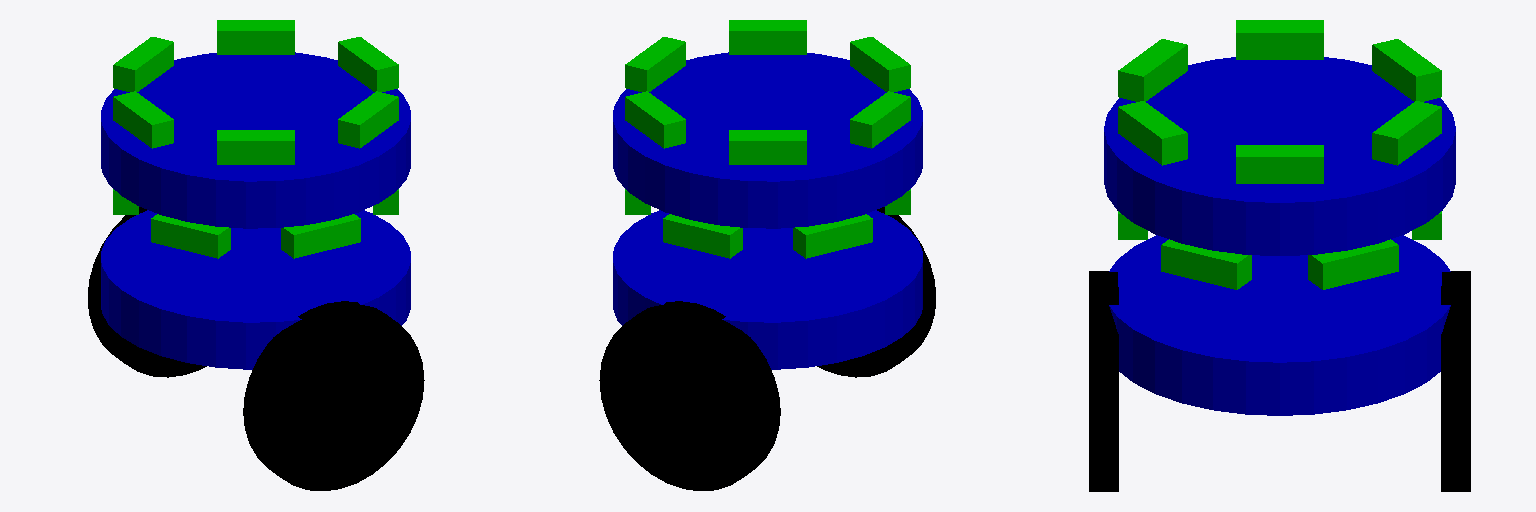
The robot description file, URDF, robot "robot":
<?xml version="1.0" ?>
  <robot name="robot">

    <link name="robot">
    </link>
     
    <joint name="robot_to_base" type="fixed">
		  <parent link="robot"/>
		  <child link="base"/>
		  <origin rpy="0 0 0" xyz="0.00 0 0.05"/>
		  <limit effort="100" velocity="100"/>
		  <joint_properties damping="0.0" friction="10"/>
	  </joint>

	  <link name="base">
		  <visual>
			  <geometry>
				  <cylinder radius="0.06" length="0.02"/>
			  </geometry>
			  <material name="blue">
				  <color rgba="0 0 .8 1"/>
			  </material>
		  </visual>
		  <collision>
			  <geometry>
				  <cylinder radius="0.06" length="0.02"/>
			  </geometry>
		  </collision>
		  <inertial>
			  <origin rpy="0 0 0" xyz="0.000000 0.000000 0.000000"/>
			  <mass value="10"/>
			  <inertia ixx="0.0104" ixy="0" ixz="0" iyy="0.05638" iyz="0" izz="0.0500"/>
		  </inertial>
	  </link>

	  <link name="front_right_wheel">
		  <visual>
			  <geometry>
				  <cylinder length="0.01" radius="0.0375"/>
			  </geometry>
			  <origin rpy="0 1.57075 0" xyz="0 0 0"/>
			  <material name="black">
				  <color rgba="0 0 0 1"/>
			  </material>
		  </visual>	
		  <inertial>
			  <origin rpy="0 0 0" xyz="0.000000 0.000000 0.000000"/>
			  <mass value="0.05"/>
			  <inertia ixx="0.0000329" ixy="0" ixz="0" iyy="0.0000329" iyz="0" izz="0.0000625"/>
		  </inertial>
		  <surface>
          <friction>
            <ode>
              <mu>0.6</mu>
              <mu2>0.6</mu2>
            </ode>
          </friction>
        </surface>
		  <collision>
			  <geometry>
				  <cylinder length="0.02" radius="0.05"/>
			  </geometry>
			  <origin rpy="0 1.57075 0" xyz="0 0 0"/>
		  </collision>
	  </link>


	  <joint name="front_base_to_right_wheel" type="fixed">
		  <parent link="base"/>
		  <child link="front_right_wheel"/>
		  <origin rpy="0 0 1.57" xyz="0 0.06 -0.025"/>
		  <limit effort="100" velocity="100"/>
		  <joint_properties damping="0.0" friction="10"/>
	  </joint>

	  <link name="front_left_wheel">
		  <visual>
			  <geometry>
				  <cylinder length="0.01" radius="0.0375"/>
			  </geometry>
			  <origin rpy="0 1.57075 0" xyz="0 0 0"/>
			  <material name="black">
				  <color rgba="0 0 0 1"/>
			  </material>
		  </visual>	
		  <inertial>
			  <origin rpy="0 0 0" xyz="0.000000 0.000000 0.000000"/>
			  <mass value="0.05"/>
			  <inertia ixx="0.0000329" ixy="0" ixz="0" iyy="0.0000329" iyz="0" izz="0.0000625"/>
		  </inertial>
		  <surface>
          <friction>
            <ode>
              <mu>0.6</mu>
              <mu2>0.6</mu2>
            </ode>
          </friction>
        </surface>
		  <collision>
			  <geometry>
				  <cylinder length="0.02" radius="0.05"/>
			  </geometry>
			  <origin rpy="0 1.57075 0" xyz="0 0 0"/>
		  </collision>
	  </link>


	  <joint name="front_base_to_left_wheel" type="fixed">
		  <parent link="base"/>
		  <child link="front_left_wheel"/>
		  <origin rpy="0 0 -1.57" xyz="0 -0.06 -0.025"/>
		  <limit effort="100" velocity="100"/>
		  <joint_properties damping="0.0" friction="10"/>
	  </joint>

    <link name="top">
      <visual>
			  <geometry>
				  <cylinder radius="0.06" length="0.02"/>
			  </geometry>
			  <material name="blue">
				  <color rgba="0 0 .8 1"/>
			  </material>
		  </visual>
		  <collision>
			  <geometry>
				  <cylinder radius="0.06" length="0.02"/>
			  </geometry>
		  </collision>
		  <inertial>
			  <origin rpy="0 0 0" xyz="0.000000 0.000000 0.000000"/>
			  <mass value="10"/>
			  <inertia ixx="0.0104" ixy="0" ixz="0" iyy="0.05638" iyz="0" izz="0.0500"/>
		  </inertial>
	  </link>

    <joint name="base_to_top" type="fixed">
		  <parent link="base"/>
		  <child link="top"/>
		  <origin rpy="0 0 0" xyz="0.00 0 0.06"/>
		  <limit effort="100" velocity="100"/>
		  <joint_properties damping="0.0" friction="10"/>
	  </joint>
	  
	  
	  <link name="range0">
          <visual> 
			  <geometry>
				  <box size="0.01 0.03 0.01"/>
			  </geometry>
			  <material name="green">
				  <color rgba="0 0.8 0 1"/>
			  </material>
		  </visual>
		  <collision>
			  <geometry>
				  <box size="0.01 0.03 0.01"/>
			  </geometry>
		  </collision>
	  </link>
	  <joint name="top_to_range0" type="fixed">
	  	<parent link="top"/>
	  	<child link="range0"/>
	  	<origin rpy="0 0 0" xyz="0.05 0 .02"/>
	  	<limit effort="100" velocity="100"/>
		<joint_properties damping="0.0" friction="10"/>
	  </joint>
	  
  	  <link name="range1">
      <visual> 
		  <geometry>
			  <box size="0.01 0.03 0.01"/>
		  </geometry>
		  <material name="green">
			  <color rgba="0 0.8 0 1"/>
		  </material>
	  </visual>
	  <collision>
		  <geometry>
			  <box size="0.01 0.03 0.01"/>
		  </geometry>
	  </collision>
	  </link>
	  <joint name="top_to_range1" type="fixed">
	  	<parent link="top"/>
	  	<child link="range1"/>
	  	<origin rpy="0 0 -0.5235987756" xyz="0.0433012701892219 -0.025 -.02"/>
	  	<limit effort="100" velocity="100"/>
		<joint_properties damping="0.0" friction="10"/>
	  </joint>
	  
  	  <link name="range2">
      <visual> 
		  <geometry>
			  <box size="0.01 0.03 0.01"/>
		  </geometry>
		  <material name="green">
			  <color rgba="0 0.8 0 1"/>
		  </material>
	  </visual>
	  <collision>
		  <geometry>
			  <box size="0.01 0.03 0.01"/>
		  </geometry>
	  </collision>
	  </link>
	  <joint name="top_to_range2" type="fixed">
	  	<parent link="top"/>
	  	<child link="range2"/>
	  	<origin rpy="0 0 -1.0471975512" xyz="0.025 -0.0433012701892219 .02"/>
	  	<limit effort="100" velocity="100"/>
		<joint_properties damping="0.0" friction="10"/>
	  </joint>
	  
  	  <link name="range3">
      <visual> 
		  <geometry>
			  <box size="0.01 0.03 0.01"/>
		  </geometry>
		  <material name="green">
			  <color rgba="0 0.8 0 1"/>
		  </material>
	  </visual>
	  <collision>
		  <geometry>
			  <box size="0.01 0.03 0.01"/>
		  </geometry>
	  </collision>
	  </link>
	  <joint name="top_to_range3" type="fixed">
	  	<parent link="top"/>
	  	<child link="range3"/>
	  	<origin rpy="0 0 -1.5707963268" xyz="3.06161699786838E-018 -0.05 -.02"/>
	  	<limit effort="100" velocity="100"/>
		<joint_properties damping="0.0" friction="10"/>
	  </joint>
	  
  	  <link name="range4">
      <visual> 
		  <geometry>
			  <box size="0.01 0.03 0.01"/>
		  </geometry>
		  <material name="green">
			  <color rgba="0 0.8 0 1"/>
		  </material>
	  </visual>
	  <collision>
		  <geometry>
			  <box size="0.01 0.03 0.01"/>
		  </geometry>
	  </collision>
	  </link>
	  <joint name="top_to_range4" type="fixed">
	  	<parent link="top"/>
	  	<child link="range4"/>
	  	<origin rpy="0 0 -2.0943951024" xyz="-0.025 -0.0433012701892219 .02"/>
	  	<limit effort="100" velocity="100"/>
		<joint_properties damping="0.0" friction="10"/>
	  </joint>
	  
  	  <link name="range5">
      <visual> 
		  <geometry>
			  <box size="0.01 0.03 0.01"/>
		  </geometry>
		  <material name="green">
			  <color rgba="0 0.8 0 1"/>
		  </material>
	  </visual>
	  <collision>
		  <geometry>
			  <box size="0.01 0.03 0.01"/>
		  </geometry>
	  </collision>
	  </link>
	  <joint name="top_to_range5" type="fixed">
	  	<parent link="top"/>
	  	<child link="range5"/>
	  	<origin rpy="0 0 -2.617993878" xyz="-0.0433012701892219 -0.025 -.02"/>
	  	<limit effort="100" velocity="100"/>
		<joint_properties damping="0.0" friction="10"/>
	  </joint>
	  
	  
  	  <link name="range6">
      <visual> 
		  <geometry>
			  <box size="0.01 0.03 0.01"/>
		  </geometry>
		  <material name="green">
			  <color rgba="0 0.8 0 1"/>
		  </material>
	  </visual>
	  <collision>
		  <geometry>
			  <box size="0.01 0.03 0.01"/>
		  </geometry>
	  </collision>
	  </link>
	  <joint name="top_to_range6" type="fixed">
	  	<parent link="top"/>
	  	<child link="range6"/>
	  	<origin rpy="0 0 -3.1415926536" xyz="-0.05 -6.12323399573677E-018 .02"/>
	  	<limit effort="100" velocity="100"/>
		<joint_properties damping="0.0" friction="10"/>
	  </joint>
	  
  	  <link name="range7">
      <visual> 
		  <geometry>
			  <box size="0.01 0.03 0.01"/>
		  </geometry>
		  <material name="green">
			  <color rgba="0 0.8 0 1"/>
		  </material>
	  </visual>
	  <collision>
		  <geometry>
			  <box size="0.01 0.03 0.01"/>
		  </geometry>
	  </collision>
	  </link>
	  <joint name="top_to_range7" type="fixed">
	  	<parent link="top"/>
	  	<child link="range7"/>
	  	<origin rpy="0 0 -3.6651914292" xyz="-0.0433012701892219 0.025 -.02"/>
	  	<limit effort="100" velocity="100"/>
		<joint_properties damping="0.0" friction="10"/>
	  </joint>
	  
	  
  	  <link name="range8">
      <visual> 
		  <geometry>
			  <box size="0.01 0.03 0.01"/>
		  </geometry>
		  <material name="green">
			  <color rgba="0 0.8 0 1"/>
		  </material>
	  </visual>
	  <collision>
		  <geometry>
			  <box size="0.01 0.03 0.01"/>
		  </geometry>
	  </collision>
	  </link>
	  <joint name="top_to_range8" type="fixed">
	  	<parent link="top"/>
	  	<child link="range8"/>
	  	<origin rpy="0 0 -4.1887902048" xyz="-0.025 0.0433012701892219 .02"/>
	  	<limit effort="100" velocity="100"/>
		<joint_properties damping="0.0" friction="10"/>
	  </joint>
	  
	  
  	  <link name="range9">
      <visual> 
		  <geometry>
			  <box size="0.01 0.03 0.01"/>
		  </geometry>
		  <material name="green">
			  <color rgba="0 0.8 0 1"/>
		  </material>
	  </visual>
	  <collision>
		  <geometry>
			  <box size="0.01 0.03 0.01"/>
		  </geometry>
	  </collision>
	  </link>
	  <joint name="top_to_range9" type="fixed">
	  	<parent link="top"/>
	  	<child link="range9"/>
	  	<origin rpy="0 0 -4.7123889804" xyz="-9.18485099360515E-018 0.05 -.02"/>
	  	<limit effort="100" velocity="100"/>
		<joint_properties damping="0.0" friction="10"/>
	  </joint>
	  
	  
  	  <link name="range10">
      <visual> 
		  <geometry>
			  <box size="0.01 0.03 0.01"/>
		  </geometry>
		  <material name="green">
			  <color rgba="0 0.8 0 1"/>
		  </material>
	  </visual>
	  <collision>
		  <geometry>
			  <box size="0.01 0.03 0.01"/>
		  </geometry>
	  </collision>
	  </link>
	  <joint name="top_to_range10" type="fixed">
	  	<parent link="top"/>
	  	<child link="range10"/>
	  	<origin rpy="0 0 -5.235987756" xyz="0.025 0.0433012701892219 .02"/>
	  	<limit effort="100" velocity="100"/>
		<joint_properties damping="0.0" friction="10"/>
	  </joint>
	  
	  
  	  <link name="range11">
      <visual> 
		  <geometry>
			  <box size="0.01 0.03 0.01"/>
		  </geometry>
		  <material name="green">
			  <color rgba="0 0.8 0 1"/>
		  </material>
	  </visual>
	  <collision>
		  <geometry>
			  <box size="0.01 0.03 0.01"/>
		  </geometry>
	  </collision>
	  </link>
	  <joint name="top_to_range11" type="fixed">
	  	<parent link="top"/>
	  	<child link="range11"/>
	  	<origin rpy="0 0 -5.7595865316" xyz="0.0433012701892219 0.025 -.02"/>
	  	<limit effort="100" velocity="100"/>
		<joint_properties damping="0.0" friction="10"/>
	  </joint>
	  
	  
  	 
    
    	


  </robot>

--- What the picture shows (computed from the rendered views, not written in the file) ---
The picture shows the robot from 3 angles, left to right: view 1: azimuth 30°, elevation 25°; view 2: azimuth 150°, elevation 25°; view 3: azimuth 270°, elevation 25°; orthographic projection.
Model robot with 17 links and 16 joints (16 fixed), rooted at robot, posed every joint at zero.
Visible links, largest first — view 1: top, base, front_left_wheel, front_right_wheel, range4, range10, range3, range5, range2, range6, range0, range8; view 2: top, base, front_right_wheel, front_left_wheel, range2, range8, range9, range7, range10, range6, range0, range4; view 3: top, base, front_right_wheel, front_left_wheel, range6, range0, range1, range11, range2, range10, range4, range8 (+2 smaller).
Link boxes in pixels (box(x1,y1,x2,y2)): top: box(101, 52, 410, 228); base: box(101, 210, 410, 369); front_left_wheel: box(243, 301, 424, 490); front_right_wheel: box(88, 207, 206, 377); range4: box(217, 130, 294, 164); range10: box(217, 20, 294, 54); range3: box(281, 214, 360, 258); range5: box(151, 214, 230, 258); range2: box(338, 91, 398, 148); range6: box(113, 91, 173, 148); range0: box(338, 37, 398, 91); range8: box(113, 37, 173, 91); top: box(613, 52, 922, 228); base: box(613, 210, 922, 369); front_right_wheel: box(599, 301, 780, 490); front_left_wheel: box(817, 207, 935, 377); range2: box(729, 20, 806, 54); range8: box(729, 130, 806, 164); range9: box(663, 214, 742, 258); range7: box(793, 214, 872, 258); range10: box(625, 91, 685, 148); range6: box(850, 91, 910, 148); range0: box(625, 37, 685, 91); range4: box(850, 37, 910, 91); top: box(1104, 57, 1455, 255); base: box(1109, 235, 1450, 415); front_right_wheel: box(1441, 271, 1470, 491); front_left_wheel: box(1089, 271, 1118, 491); range6: box(1236, 20, 1323, 59); range0: box(1236, 145, 1323, 183); range1: box(1161, 239, 1251, 289); range11: box(1308, 239, 1398, 289); range2: box(1118, 101, 1187, 165); range10: box(1372, 101, 1441, 165); range4: box(1118, 39, 1187, 101); range8: box(1372, 39, 1441, 101).
Size in the robot's own frame: 0.12 by 0.1301 by 0.1475 metres.
Geometry: primitives only (box / cylinder / sphere), no mesh files.